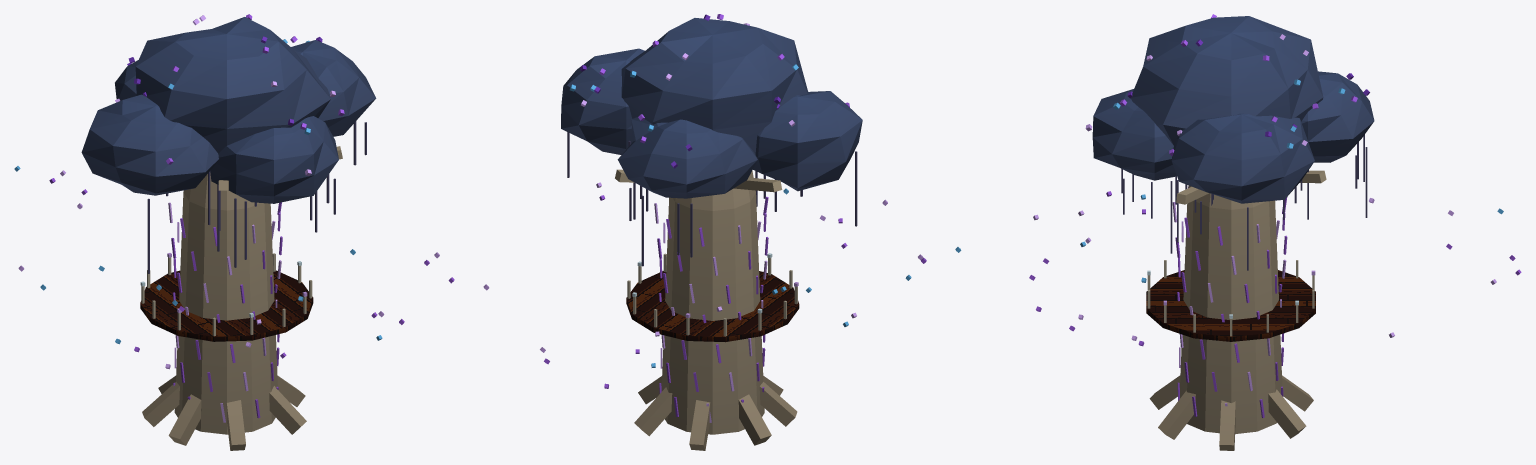
The model's file is silverbark.glb.
3 renders of one model, left to right at view 1: azimuth 30°, elevation 25°; view 2: azimuth 150°, elevation 25°; view 3: azimuth 270°, elevation 25°, orthographic.
Visible parts, largest first — view 1: silverbark; view 2: silverbark; view 3: silverbark.
Part boxes in pixels (x1=…): silverbark: x1=14, y1=14, x2=454, y2=450; silverbark: x1=483, y1=14, x2=926, y2=450; silverbark: x1=955, y1=14, x2=1521, y2=450.
Size of the model in its own units: 11.34 by 12.35 by 16.25.
Materials: 3 (1 with a texture image).
